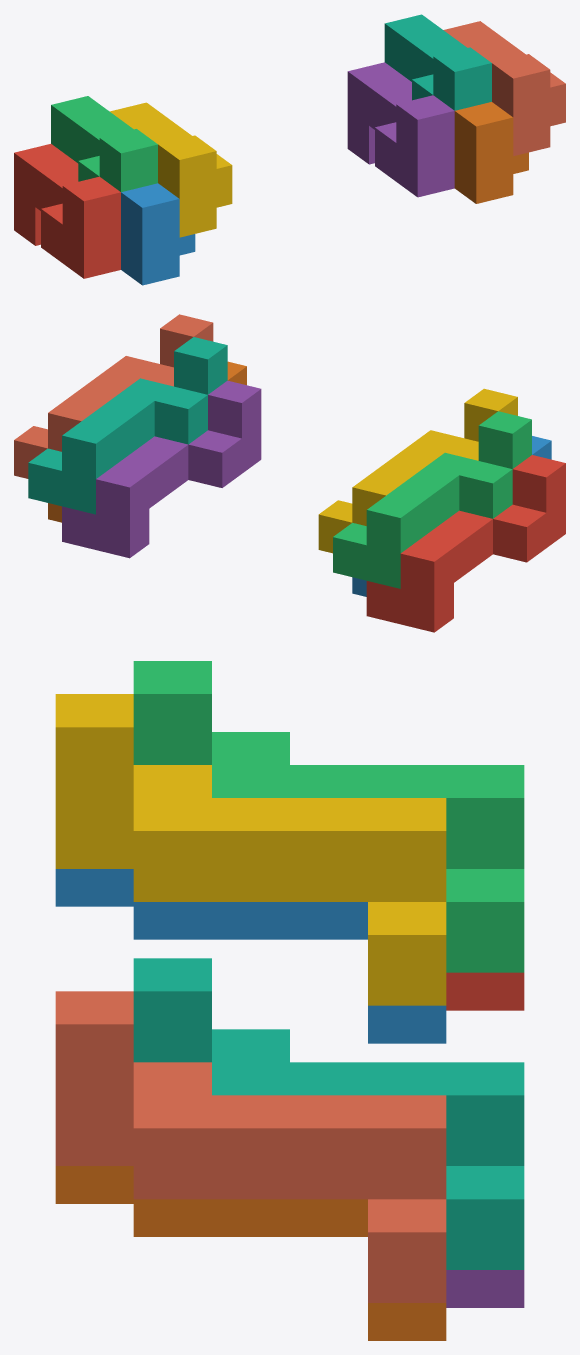
File: tiling.obj
The picture shows the model from 3 angles, top to bottom: view 1: azimuth 30°, elevation 25°; view 2: azimuth 150°, elevation 25°; view 3: azimuth 270°, elevation 25°; orthographic projection. The views are drawn at different scales.
Parts seen in each view (by area): view 1: copy_1_domain_5, copy_1_domain_1, copy_1_domain_4, copy_1_domain_8, copy_1_domain_7, copy_1_domain_3, copy_1_domain_6, copy_1_domain_2; view 2: copy_1_domain_1, copy_1_domain_5, copy_1_domain_3, copy_1_domain_7, copy_1_domain_4, copy_1_domain_8, copy_1_domain_2, copy_1_domain_6; view 3: copy_1_domain_8, copy_1_domain_4, copy_1_domain_7, copy_1_domain_3, copy_1_domain_2, copy_1_domain_6, copy_1_domain_1, copy_1_domain_5.
Boxes of the visible parts, x1,y1,x2,y2 form: copy_1_domain_5: (347, 62, 454, 197); copy_1_domain_1: (14, 144, 120, 278); copy_1_domain_4: (110, 102, 232, 237); copy_1_domain_8: (443, 21, 565, 155); copy_1_domain_7: (384, 14, 491, 110); copy_1_domain_3: (51, 96, 157, 192); copy_1_domain_6: (454, 102, 528, 203); copy_1_domain_2: (121, 183, 195, 285); copy_1_domain_1: (366, 455, 565, 632); copy_1_domain_5: (62, 380, 261, 558); copy_1_domain_3: (333, 411, 531, 588); copy_1_domain_7: (28, 337, 227, 514); copy_1_domain_4: (318, 388, 517, 553); copy_1_domain_8: (14, 314, 213, 478); copy_1_domain_2: (352, 436, 551, 596); copy_1_domain_6: (48, 361, 246, 522); copy_1_domain_8: (55, 991, 446, 1302); copy_1_domain_4: (55, 694, 446, 1005); copy_1_domain_7: (133, 958, 524, 1269); copy_1_domain_3: (133, 661, 524, 972); copy_1_domain_2: (55, 869, 446, 1043); copy_1_domain_6: (55, 1166, 446, 1340); copy_1_domain_1: (446, 972, 524, 1010); copy_1_domain_5: (446, 1270, 524, 1307).
Bounding box in the file's own units: 14 × 4 × 6.
